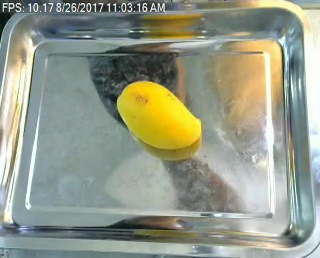Mango: (115, 79, 205, 154)
